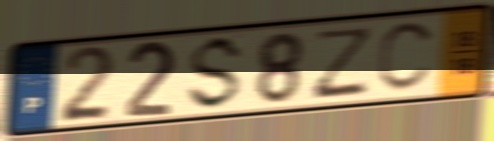2: (59, 45, 117, 126), (124, 38, 177, 118)
8: (254, 30, 305, 106)
C: (375, 19, 439, 95)
S: (183, 32, 248, 113)
Z: (308, 23, 377, 102)
